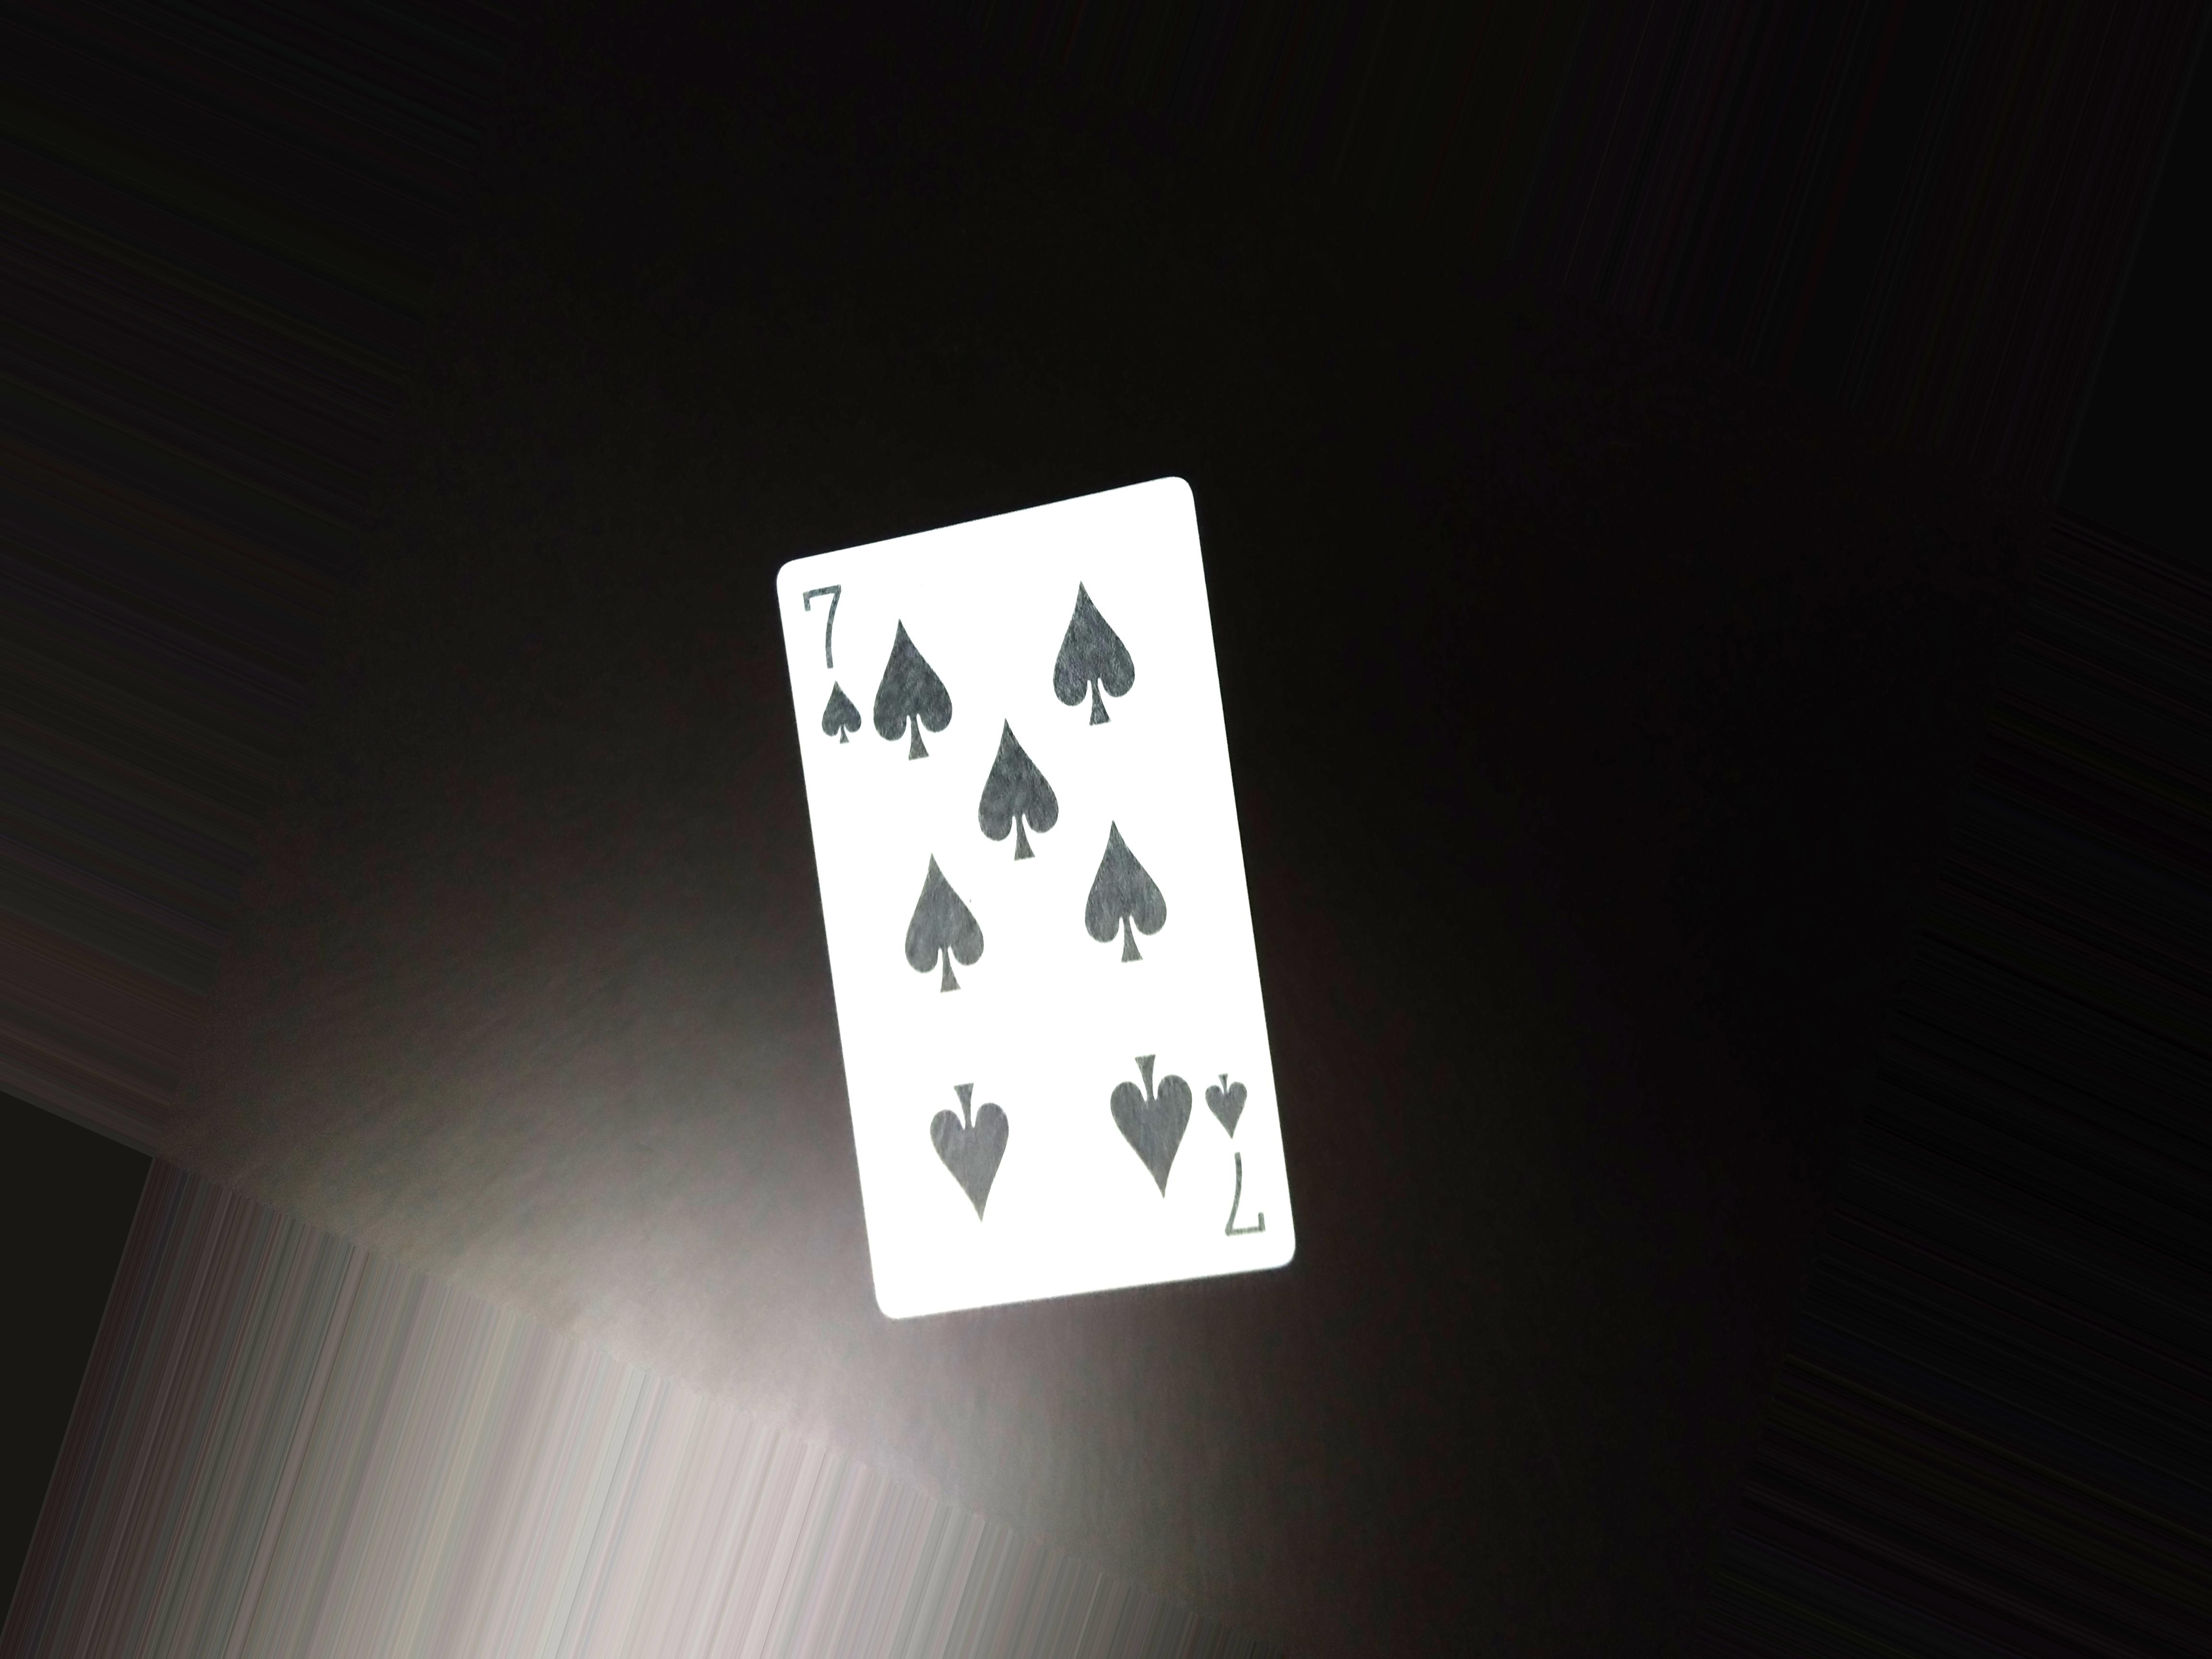7S: (784, 575, 871, 779)
